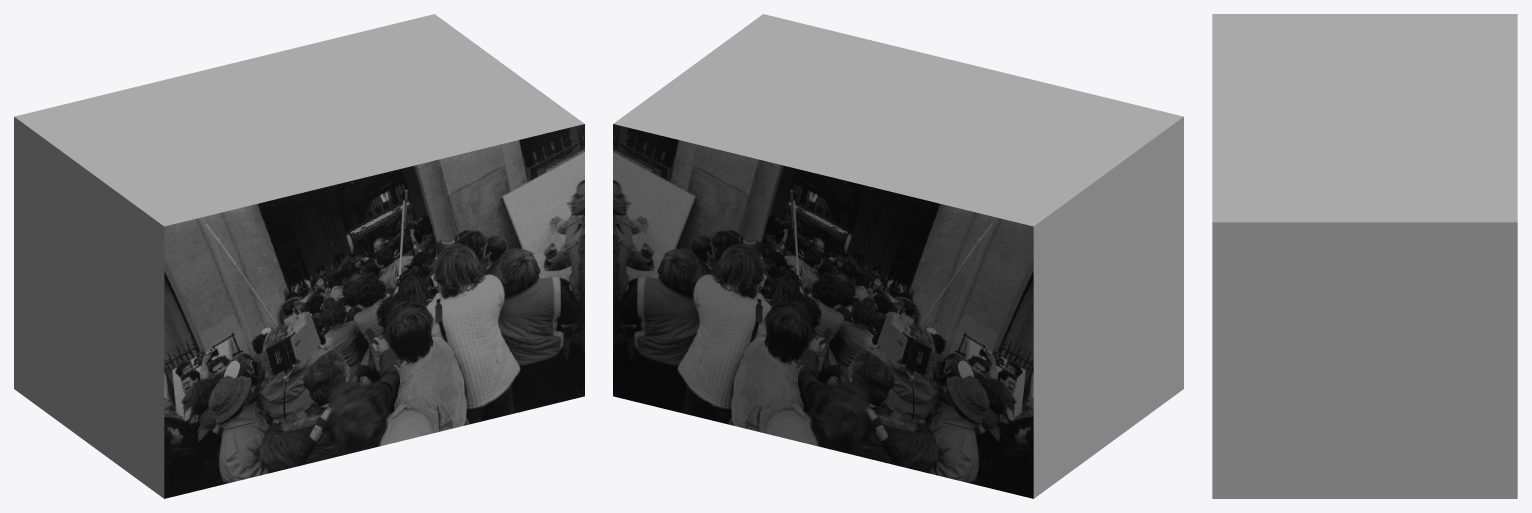
Rendered from asset.glb.
3 views of the same model, side by side, from view 1: azimuth 30°, elevation 25°; view 2: azimuth 150°, elevation 25°; view 3: azimuth 270°, elevation 25° (orthographic).
Parts seen in each view (by area): view 1: Hintergrund; view 2: Hintergrund; view 3: Hintergrund.
Boxes of the visible parts, left/top/right/bottom form: Hintergrund: left=14, top=14, right=584, bottom=498; Hintergrund: left=613, top=14, right=1183, bottom=498; Hintergrund: left=1212, top=14, right=1517, bottom=498.
Size of the model in its own units: 0.3335 by 0.2064 by 0.2063.
3 materials, 3 textured.
